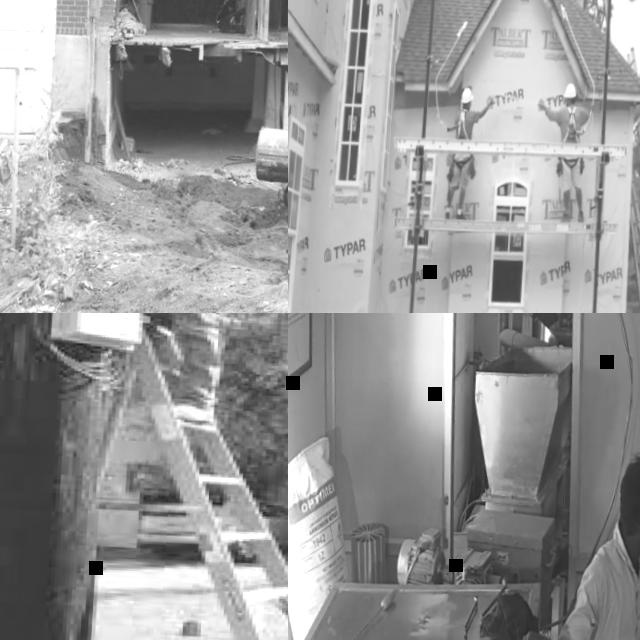Hardhat: (461, 87, 474, 105), (565, 83, 579, 99)
NO-Hardhat: (621, 453, 640, 496)
NO-Mask: (566, 102, 571, 107), (468, 104, 471, 111)
NO-Safety Vest: (579, 544, 640, 640), (559, 105, 583, 144), (456, 110, 474, 138)
Person: (513, 444, 640, 640), (74, 313, 259, 426), (531, 82, 593, 223), (446, 87, 496, 221)
Safety Cone: (149, 619, 223, 640)
